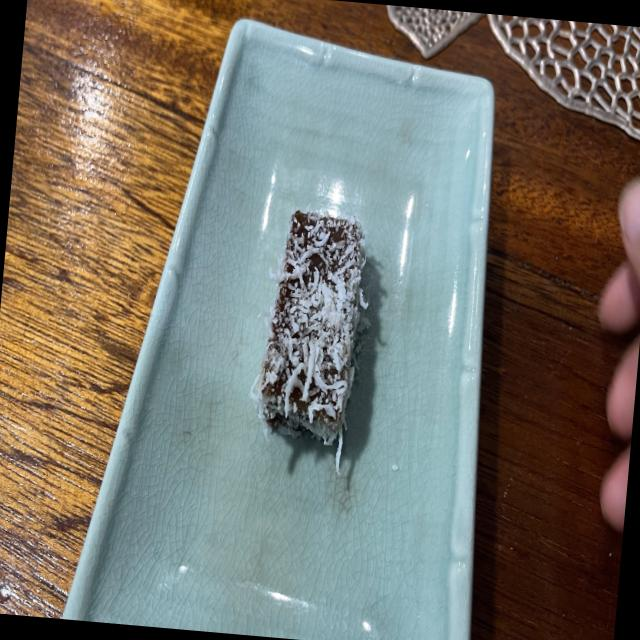kaswi: (256, 211, 367, 471)
